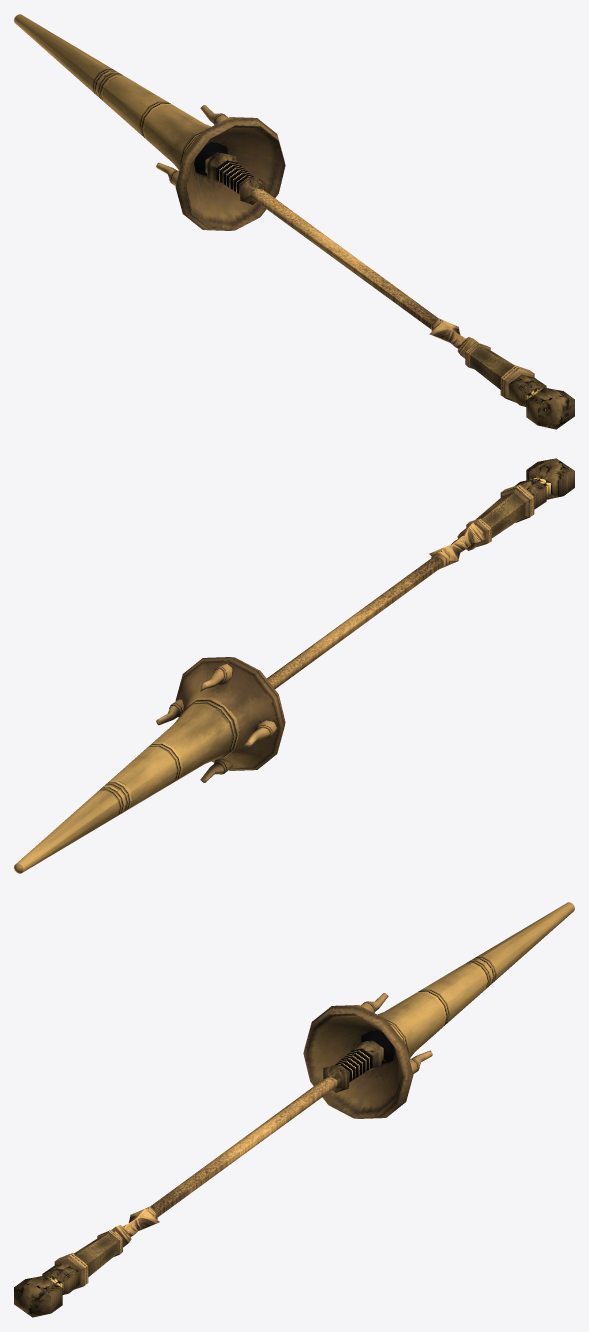
Rendered from spear__night_spear_knight_spear_gacha1.glb.
3 views of the same model, one above another, from view 1: azimuth 30°, elevation 25°; view 2: azimuth 150°, elevation 25°; view 3: azimuth 330°, elevation 25° (orthographic).
Size of the model in its own units: 0.3313 by 0.3313 by 2.86.
1 material, 1 textured.
